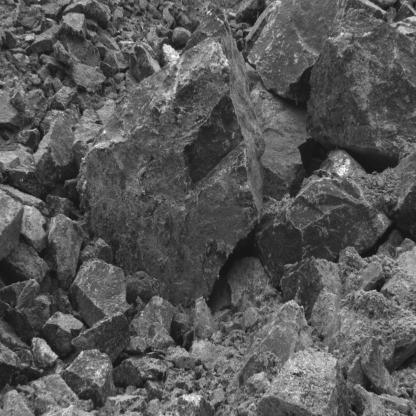stone: (84, 12, 262, 300), (299, 2, 416, 165), (257, 152, 387, 284), (241, 0, 351, 105), (254, 339, 352, 416), (252, 74, 304, 199), (375, 139, 416, 241), (69, 260, 130, 327), (254, 300, 313, 364), (35, 108, 77, 188), (63, 349, 117, 409), (0, 280, 49, 342), (71, 313, 131, 363), (47, 214, 86, 286), (0, 244, 54, 296), (280, 257, 323, 319), (229, 254, 278, 308), (26, 373, 85, 416), (360, 338, 402, 395), (109, 353, 169, 389), (132, 295, 177, 339), (0, 186, 23, 261), (44, 313, 82, 357), (5, 165, 45, 199), (127, 42, 158, 84), (71, 60, 105, 95), (0, 384, 37, 416), (22, 204, 46, 252), (63, 34, 101, 64), (193, 296, 216, 339), (31, 23, 62, 53), (14, 0, 43, 31), (48, 85, 79, 111), (146, 323, 175, 350), (83, 0, 110, 28), (59, 11, 88, 37), (0, 90, 20, 127), (15, 127, 43, 149), (46, 195, 73, 217), (53, 39, 74, 66), (104, 49, 127, 72), (9, 88, 29, 111), (158, 43, 179, 64), (172, 27, 192, 48), (126, 335, 146, 354)
